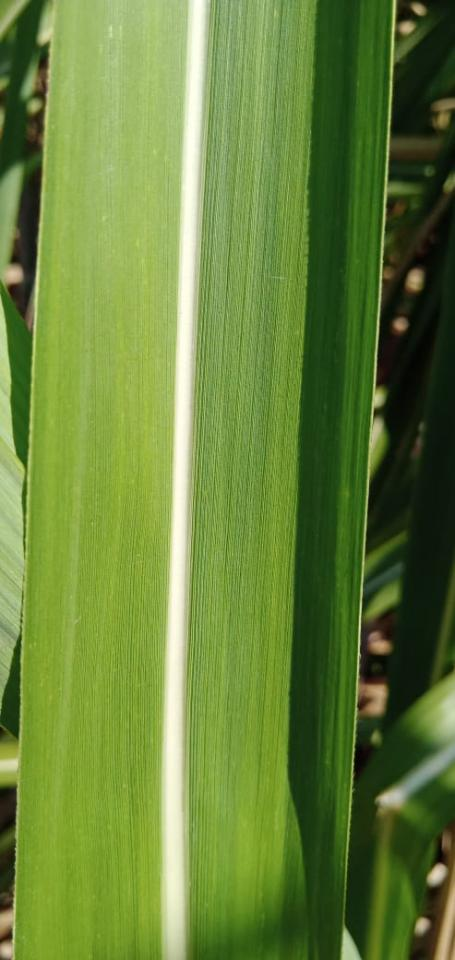Healthy: (15, 0, 399, 959)
